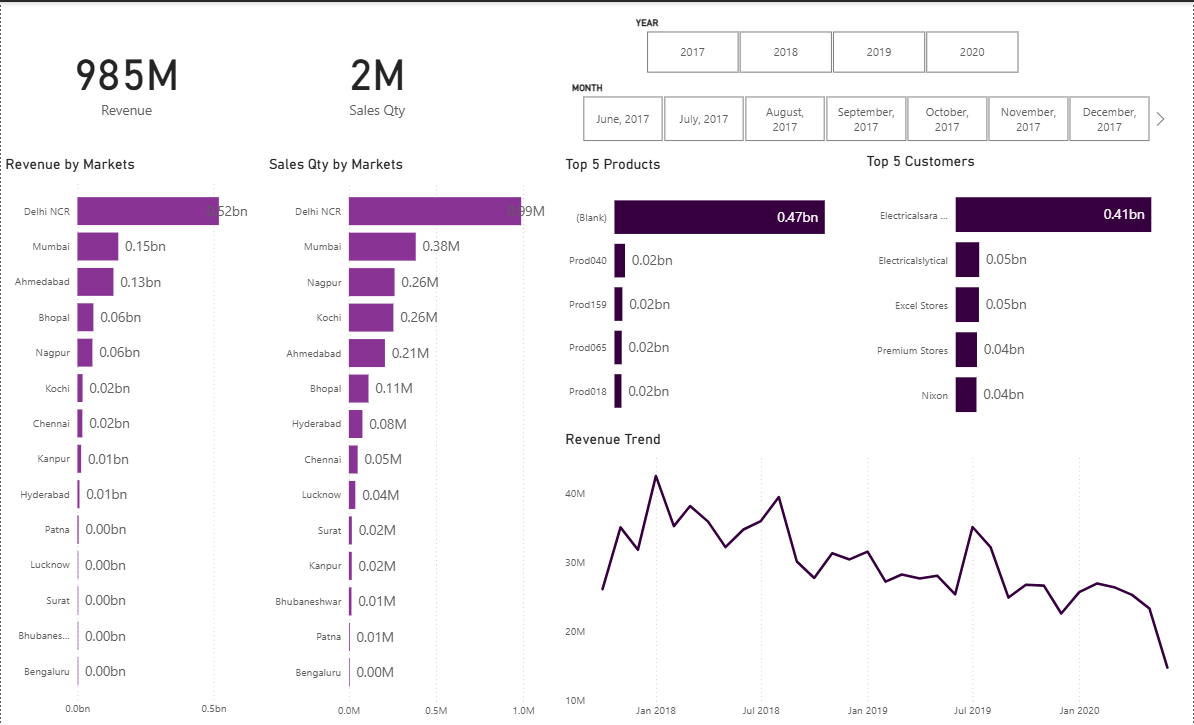

The page's visual inventory and layout, read from the dashboard file:
{"tool":"powerbi","page":{"name":"Page 1","canvas":[1400,850],"ordinal":0},"visuals":[{"type":"card","fields":{"Values":["BaseMeasures.Revenue"]},"box":[0,0,295.1,181],"z":0},{"type":"card","fields":{"Values":["BaseMeasures.Sales Qty"]},"box":[294.7,0,294.7,180.4],"z":1000},{"type":"clusteredBarChart","title":"Revenue by Markets","fields":{"Category":["sales markets.markets_name"],"Y":["BaseMeasures.Revenue"]},"box":[0,180.6,309.9,668.2],"z":2000},{"type":"clusteredBarChart","title":"Sales Qty by Markets","fields":{"Category":["sales markets.markets_name"],"Y":["BaseMeasures.Sales Qty"]},"box":[309.9,180.6,348,669.7],"z":3000},{"type":"slicer","fields":{"Values":["sales date.year"]},"box":[732.8,13.2,486.1,76.4],"z":4000},{"type":"slicer","fields":{"Values":["sales date.cy_date"]},"box":[657.9,89.6,715.2,80.8],"z":5000},{"type":"barChart","title":"Top 5 Customers","fields":{"Category":["sales customers.custmer_name"],"Y":["BaseMeasures.Revenue"]},"box":[1011.8,176.2,387.7,333.4],"z":6000},{"type":"barChart","title":"Top 5 Products","fields":{"Category":["sales products.product_code"],"Y":["BaseMeasures.Revenue"]},"box":[657.9,180.6,353.9,323.1],"z":7000},{"type":"lineChart","title":"Revenue Trend","fields":{"Y":["BaseMeasures.Revenue"],"Category":["sales date.cy_date.Variation.Date Hierarchy.Year","sales date.cy_date.Variation.Date Hierarchy.Quarter","sales date.cy_date.Variation.Date Hierarchy.Month","sales date.cy_date.Variation.Date Hierarchy.Day"]},"box":[657.9,503.7,741.6,346.6],"z":8000}]}

Visuals, with their boxes in screenshot pixels (x1, y1, x2, y2), scaled from the page's 1400x850 canvas onto the 1194x725 screenshot:
card - BaseMeasures.Revenue: pyautogui.locateOnScreen(0, 0, 252, 154)
card - BaseMeasures.Sales Qty: pyautogui.locateOnScreen(251, 0, 503, 154)
"Revenue by Markets" clusteredBarChart: pyautogui.locateOnScreen(0, 154, 264, 724)
"Sales Qty by Markets" clusteredBarChart: pyautogui.locateOnScreen(264, 154, 561, 724)
slicer - sales date.year: pyautogui.locateOnScreen(625, 11, 1040, 76)
slicer - sales date.cy_date: pyautogui.locateOnScreen(561, 76, 1171, 145)
"Top 5 Customers" barChart: pyautogui.locateOnScreen(863, 150, 1193, 435)
"Top 5 Products" barChart: pyautogui.locateOnScreen(561, 154, 863, 430)
"Revenue Trend" lineChart: pyautogui.locateOnScreen(561, 430, 1193, 724)
